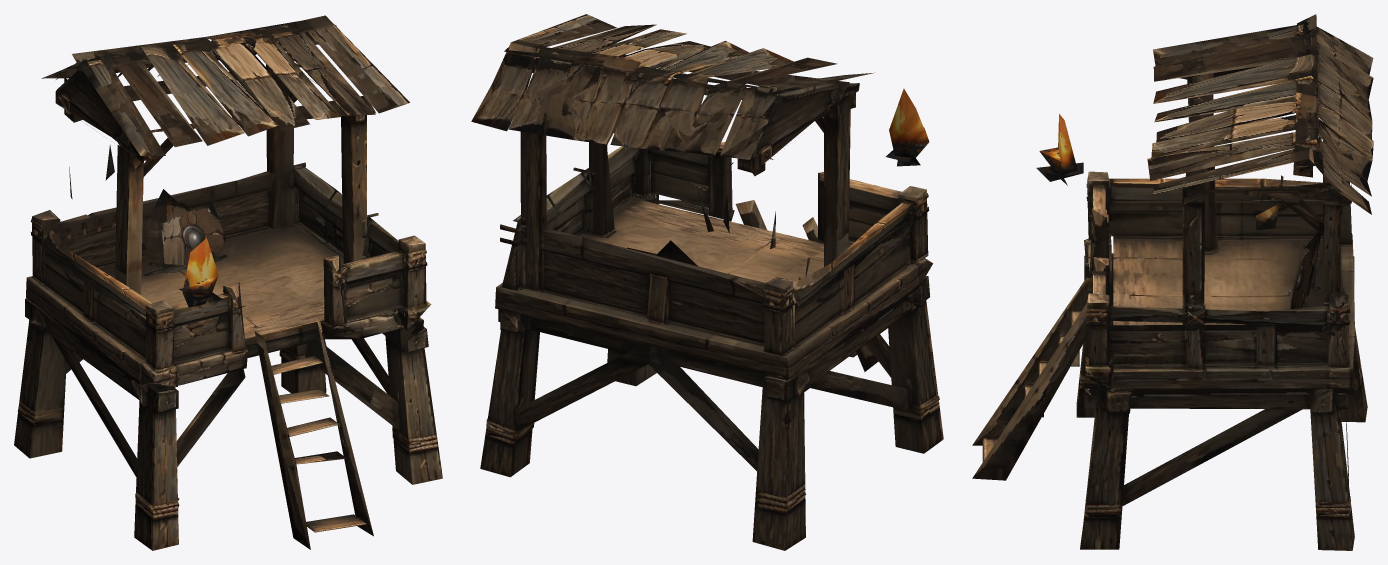
The model's file is act1_extras_v1_watch_post.glb.
3 views of the same model, side by side, from view 1: azimuth 30°, elevation 25°; view 2: azimuth 150°, elevation 25°; view 3: azimuth 270°, elevation 25° (orthographic). The views are drawn at different scales.
Visible parts, largest first — view 1: A15_6_watch_post; view 2: A15_6_watch_post; view 3: A15_6_watch_post.
Part boxes in pixels (box(x1,y1,x2,y2)): A15_6_watch_post: box(14, 15, 442, 550); A15_6_watch_post: box(471, 14, 943, 550); A15_6_watch_post: box(972, 14, 1373, 550).
Size of the model in its own units: 0.7661 by 0.9985 by 0.8887.
Materials: 1 (1 with a texture image).
